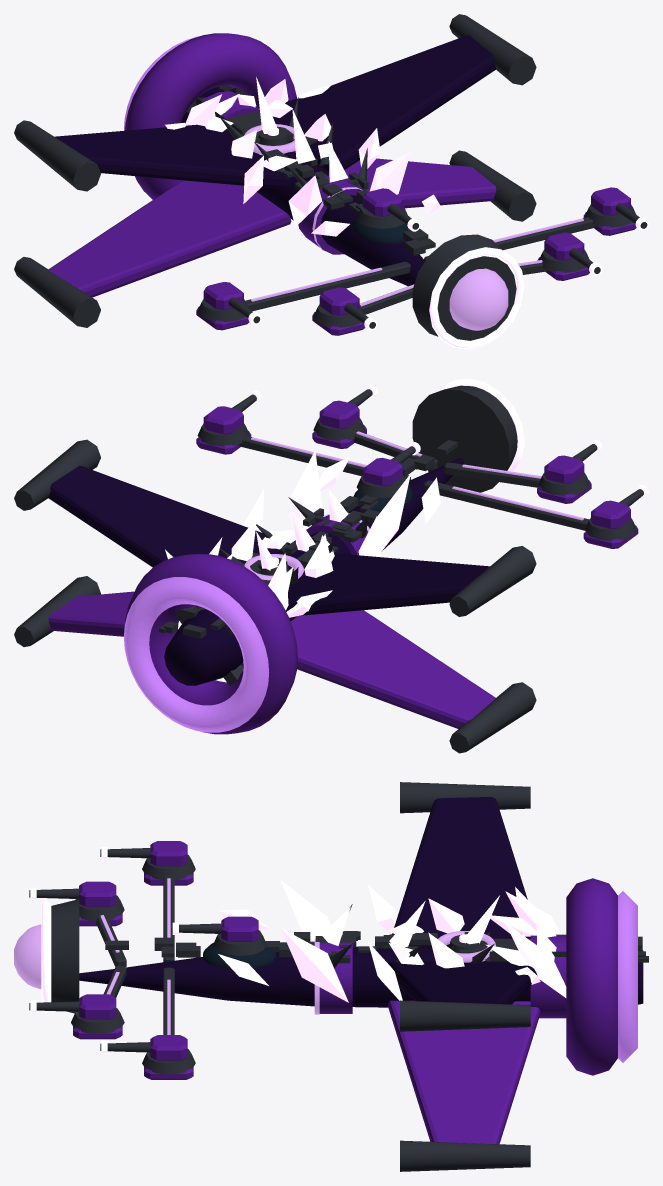
Rendered from ship_cipher.glb.
3 views of the same model, one above another, from view 1: azimuth 30°, elevation 25°; view 2: azimuth 150°, elevation 25°; view 3: azimuth 270°, elevation 25° (orthographic). The views are drawn at different scales.
Visible parts, largest first — view 1: secondary, trim, primary, accent, glow, glass; view 2: secondary, trim, primary, engine, accent, glow; view 3: secondary, primary, trim, accent, engine, glow, glass.
Part boxes in pixels (<box>): secondary: <box>48,33,636,335</box>; trim: <box>14,14,647,340</box>; primary: <box>54,35,496,286</box>; accent: <box>165,77,648,349</box>; glow: <box>244,124,583,330</box>; glass: <box>352,215,408,243</box>; secondary: <box>48,400,638,734</box>; trim: <box>14,385,643,753</box>; primary: <box>48,458,489,685</box>; engine: <box>124,577,269,732</box>; accent: <box>165,378,648,629</box>; glow: <box>244,431,583,580</box>; secondary: <box>73,841,617,1144</box>; primary: <box>79,797,643,1007</box>; trim: <box>29,782,648,1171</box>; accent: <box>30,847,566,1053</box>; engine: <box>618,891,637,1062</box>; glow: <box>14,878,495,1034</box>; glass: <box>203,942,276,968</box>.
Size of the model in its own units: 3.71 by 1.33 by 4.28.
